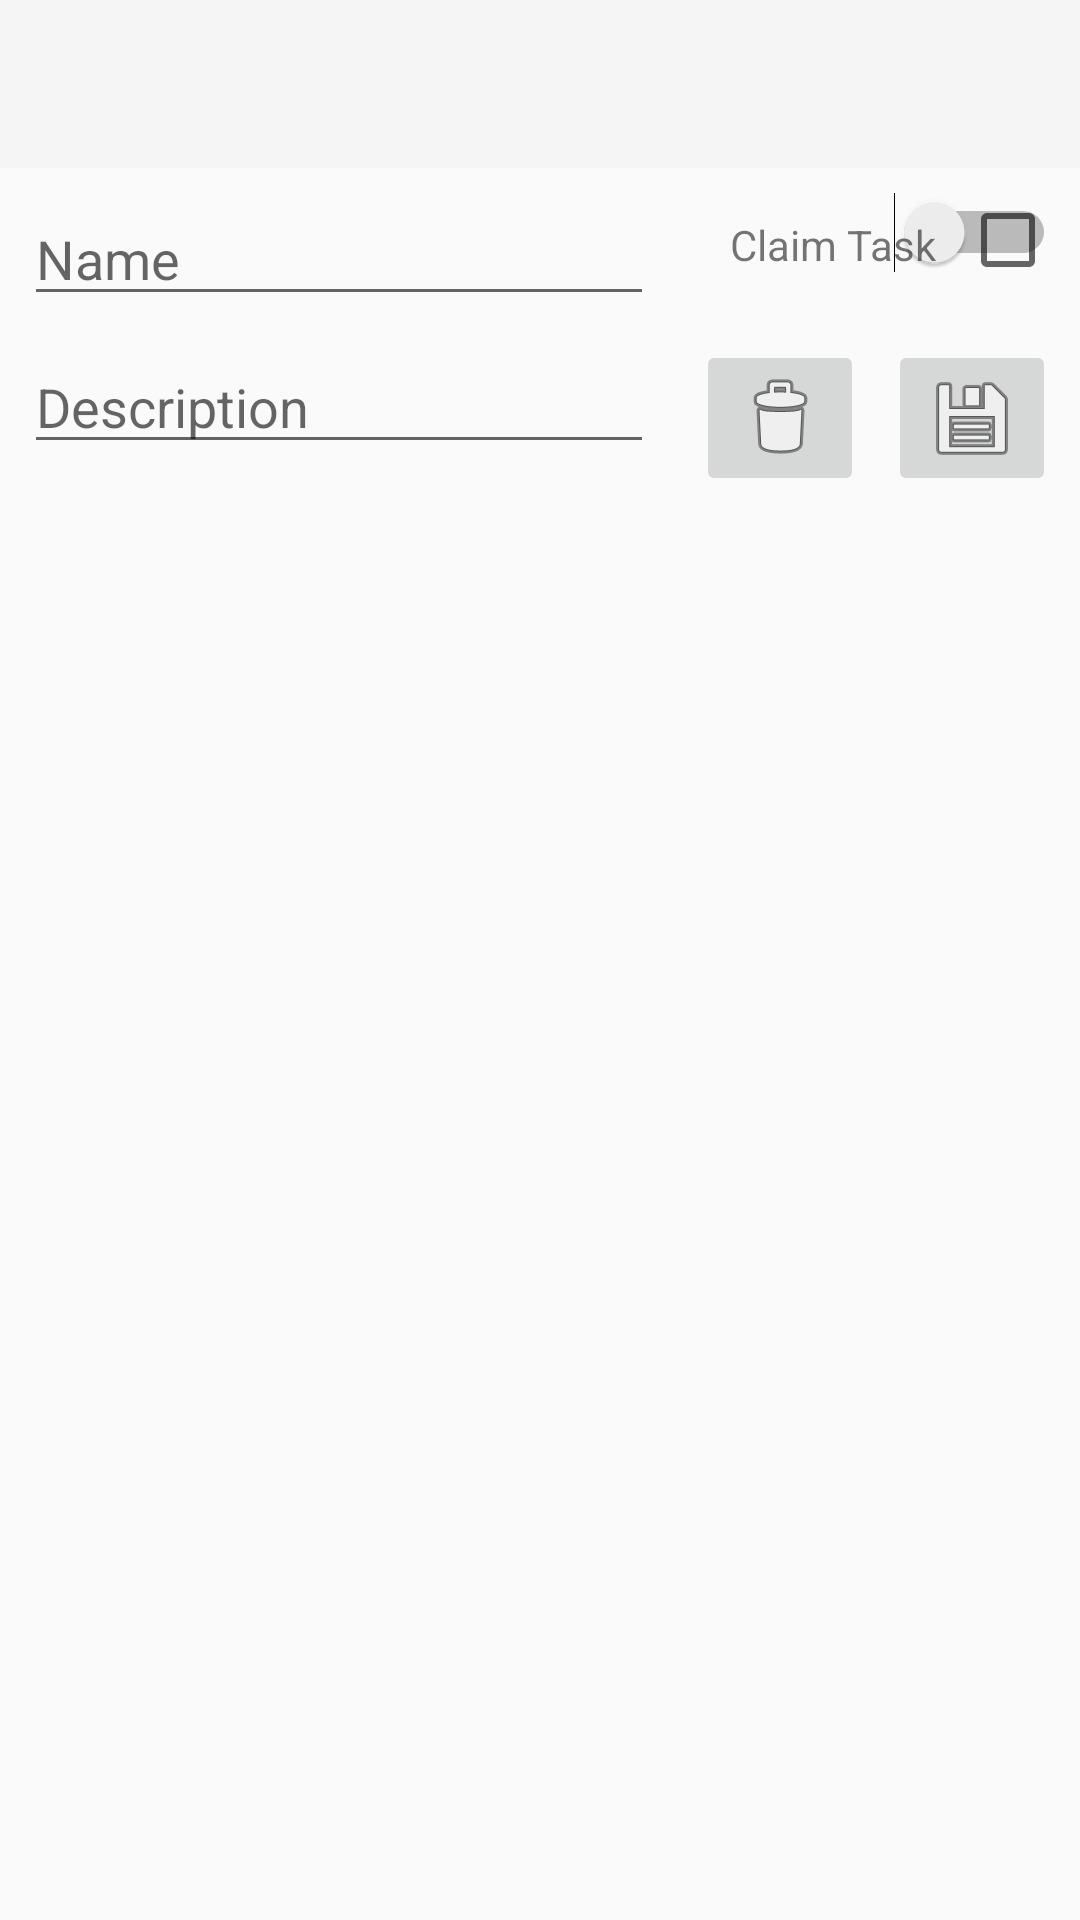

Icon click points for this 1080*1920 phone screenshot, format (x,y):
delete: (780,418)
save: (972,418)
